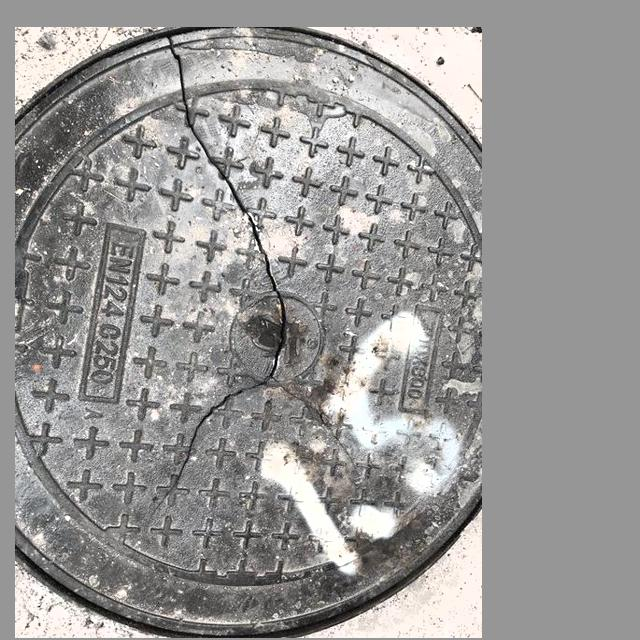broke: (20, 31, 473, 635)
